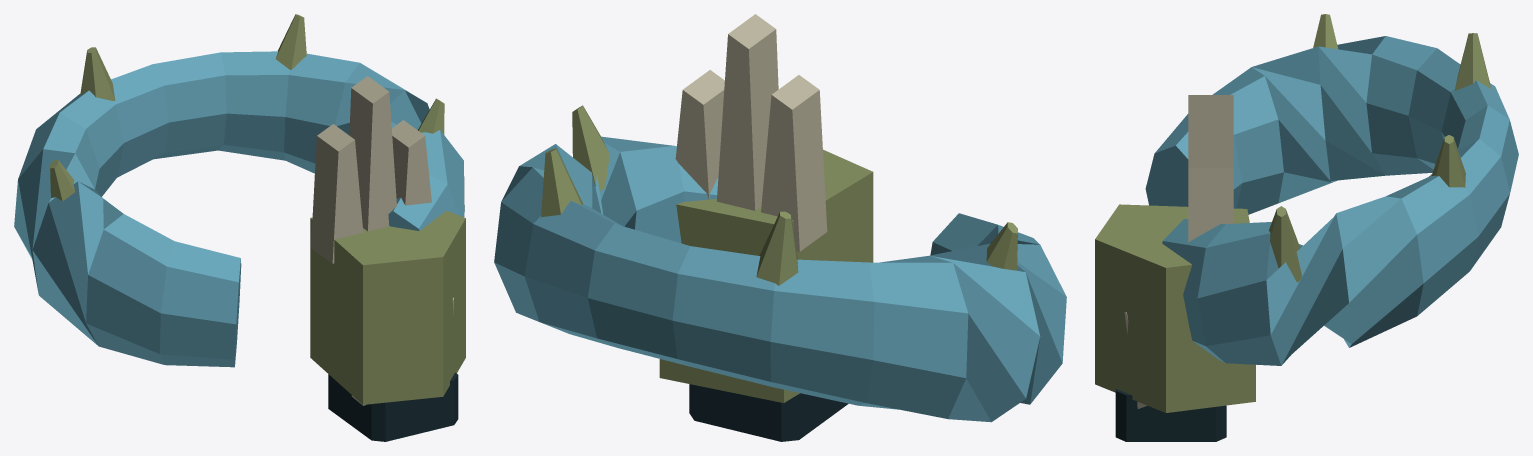
Rendered from world.glb.
3 views of the same model, side by side, from view 1: azimuth 30°, elevation 25°; view 2: azimuth 150°, elevation 25°; view 3: azimuth 270°, elevation 25° (orthographic). The views are drawn at different scales.
Visible parts, largest first — view 1: body, head, jaw; view 2: body, head, jaw; view 3: body, head, jaw.
Part boxes in pixels (x1,y1,x2,y2): body: (14, 14, 464, 367); head: (310, 76, 465, 404); jaw: (328, 297, 458, 441); body: (494, 105, 1066, 422); head: (659, 14, 873, 402); jaw: (689, 384, 848, 441); body: (1145, 14, 1518, 365); head: (1095, 95, 1255, 412); jaw: (1115, 312, 1226, 441).
Bounding box in the file's own units: 3.15 × 2.3 × 2.7.
